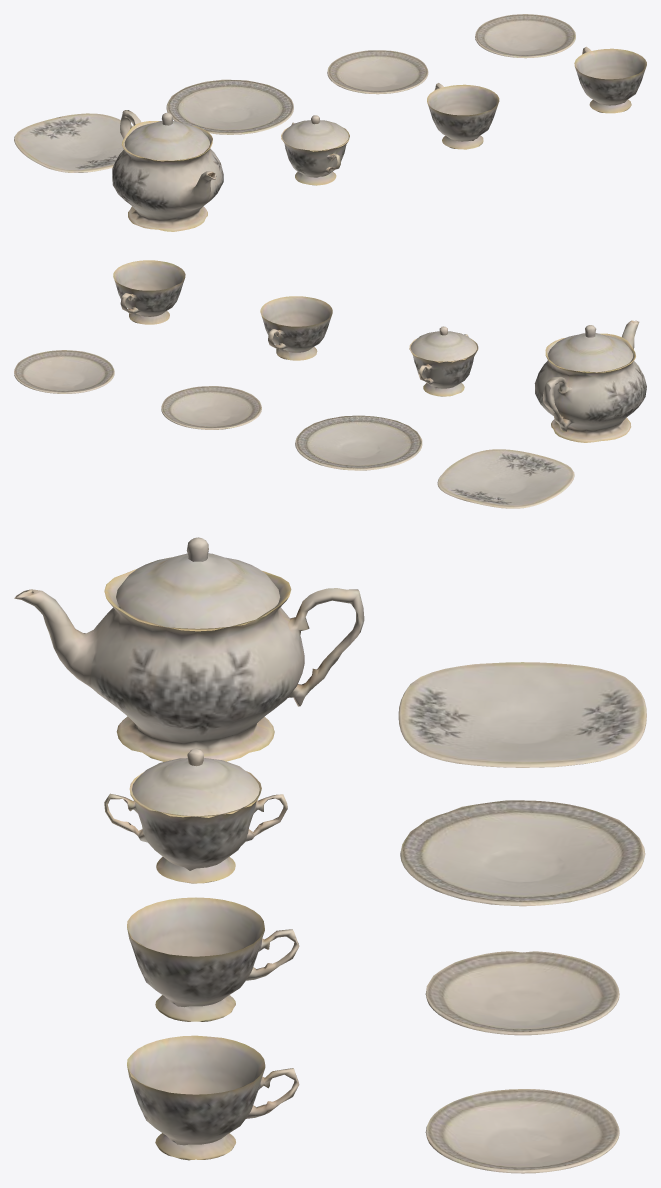
Rendered from teaset.glb.
3 renders of one model, top to bottom at view 1: azimuth 30°, elevation 25°; view 2: azimuth 150°, elevation 25°; view 3: azimuth 270°, elevation 25°, orthographic. The views are drawn at different scales.
Visible parts, largest first — view 1: teaset; view 2: teaset; view 3: teaset.
Part boxes in pixels (bbox=[...]): teaset: bbox=[14, 14, 646, 231]; teaset: bbox=[14, 260, 646, 508]; teaset: bbox=[14, 537, 646, 1173].
Bounding box in the file's own units: 0.9181 × 0.1651 × 0.4841.
Materials: 1 (1 with a texture image).
